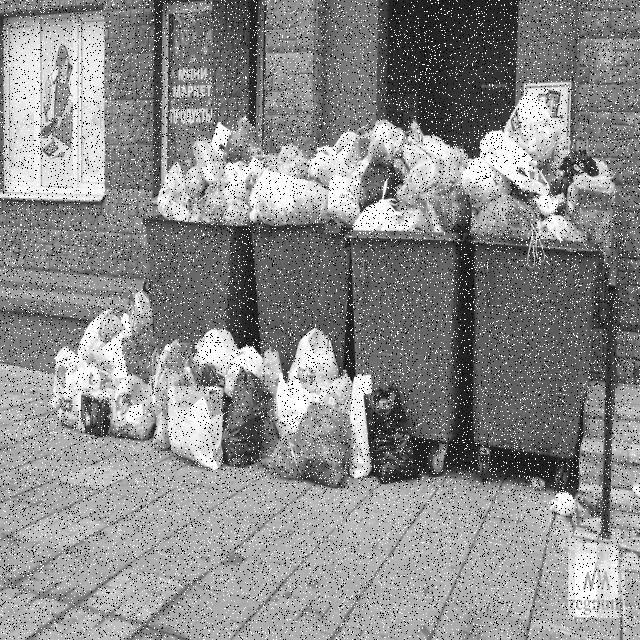Trashcan: (457, 135, 630, 500), (356, 112, 481, 482), (131, 129, 278, 422), (245, 147, 362, 438)
